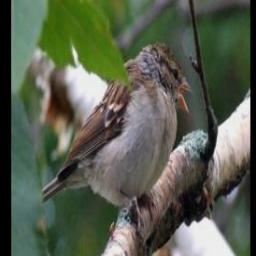Sparrow: (41, 39, 196, 238)
